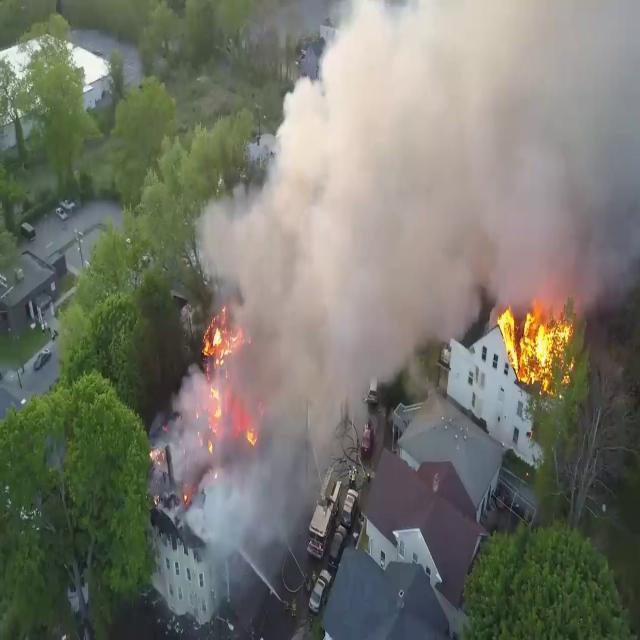Fire: (495, 292, 575, 390), (200, 310, 242, 424)
Smoke: (187, 0, 639, 489)
